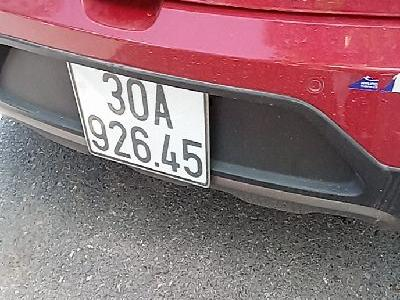lisence: (66, 60, 212, 189)
